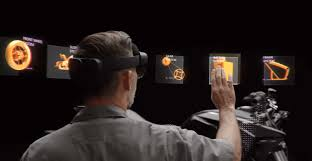hololens: (68, 49, 149, 82)
